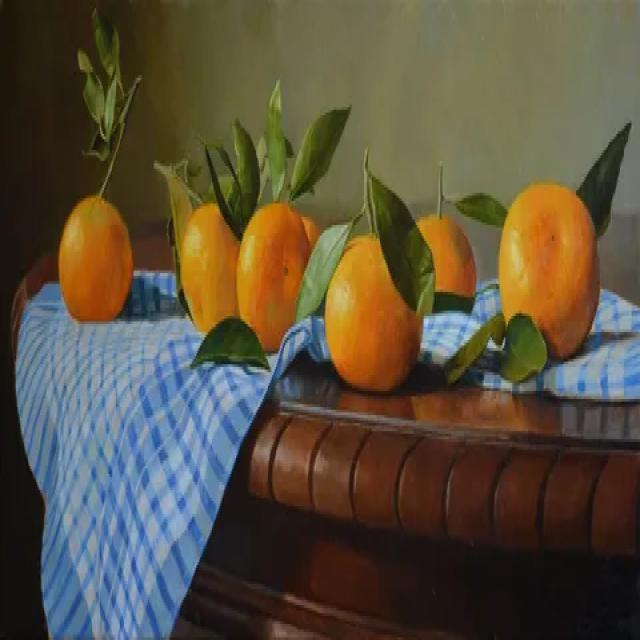orange: (495, 180, 610, 371), (320, 224, 433, 400), (56, 195, 138, 323)
